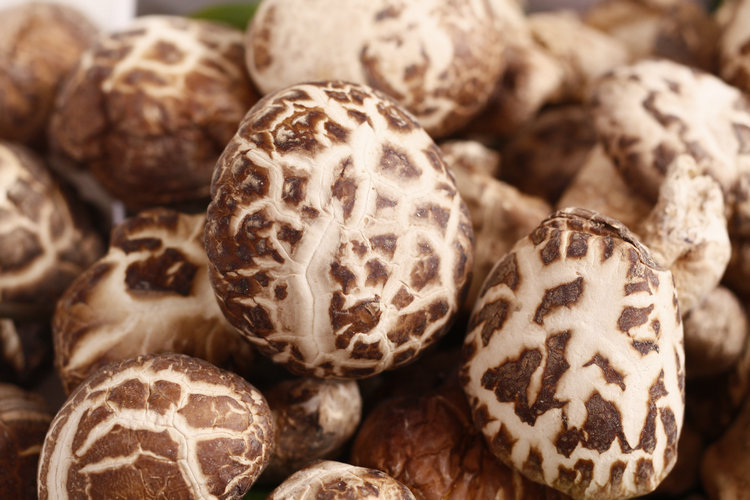H: (212, 85, 468, 377), (476, 206, 688, 487), (33, 352, 269, 500), (250, 1, 504, 129), (63, 8, 249, 180), (64, 211, 258, 370), (592, 44, 750, 204), (1, 139, 100, 294)
